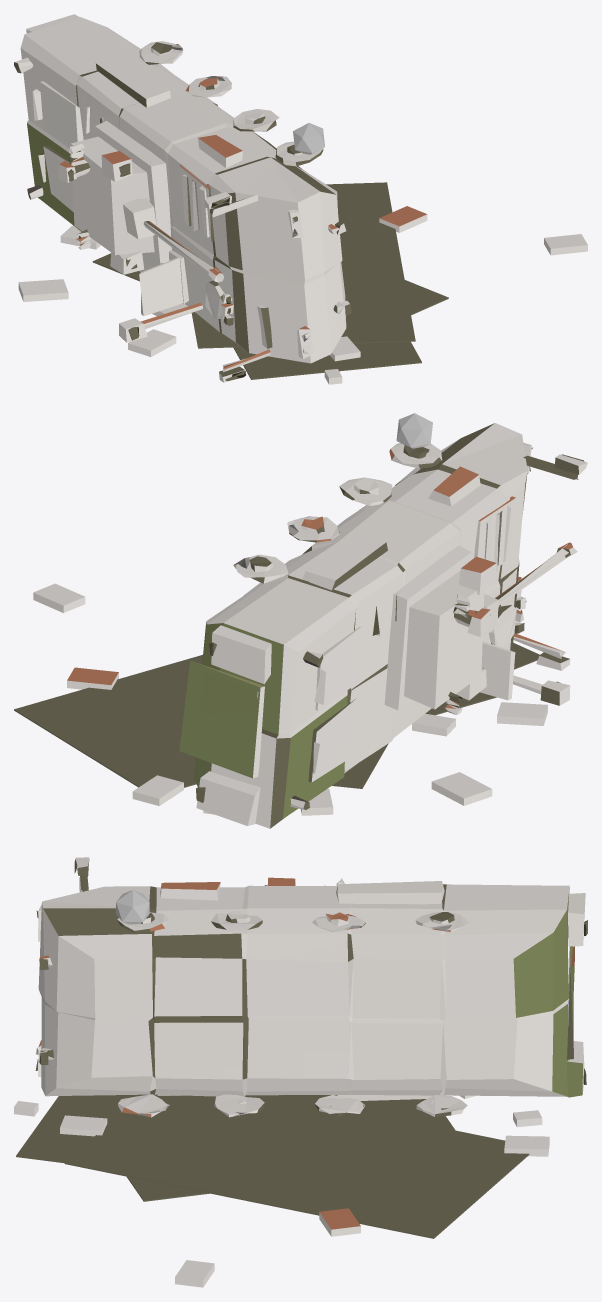
Rendered from SM_RestosDragon_v2_LOD0.fbx.
The picture shows the model from 3 angles, top to bottom: view 1: azimuth 30°, elevation 25°; view 2: azimuth 150°, elevation 25°; view 3: azimuth 270°, elevation 25°; orthographic projection. The views are drawn at different scales.
Parts seen in each view (by area): view 1: SM_bloques.restos_dragon_v2_LOD0, Humo; view 2: SM_bloques.restos_dragon_v2_LOD0, Humo; view 3: SM_bloques.restos_dragon_v2_LOD0, Humo.
Boxes of the visible parts, box(x1,y1,x2,y2) form: SM_bloques.restos_dragon_v2_LOD0: box(14, 14, 587, 384); Humo: box(293, 123, 324, 154); SM_bloques.restos_dragon_v2_LOD0: box(14, 423, 587, 828); Humo: box(396, 413, 432, 448); SM_bloques.restos_dragon_v2_LOD0: box(14, 857, 587, 1287); Humo: box(116, 890, 149, 924).
Bounding box in the file's own units: 9.2 × 3.93 × 8.7.
